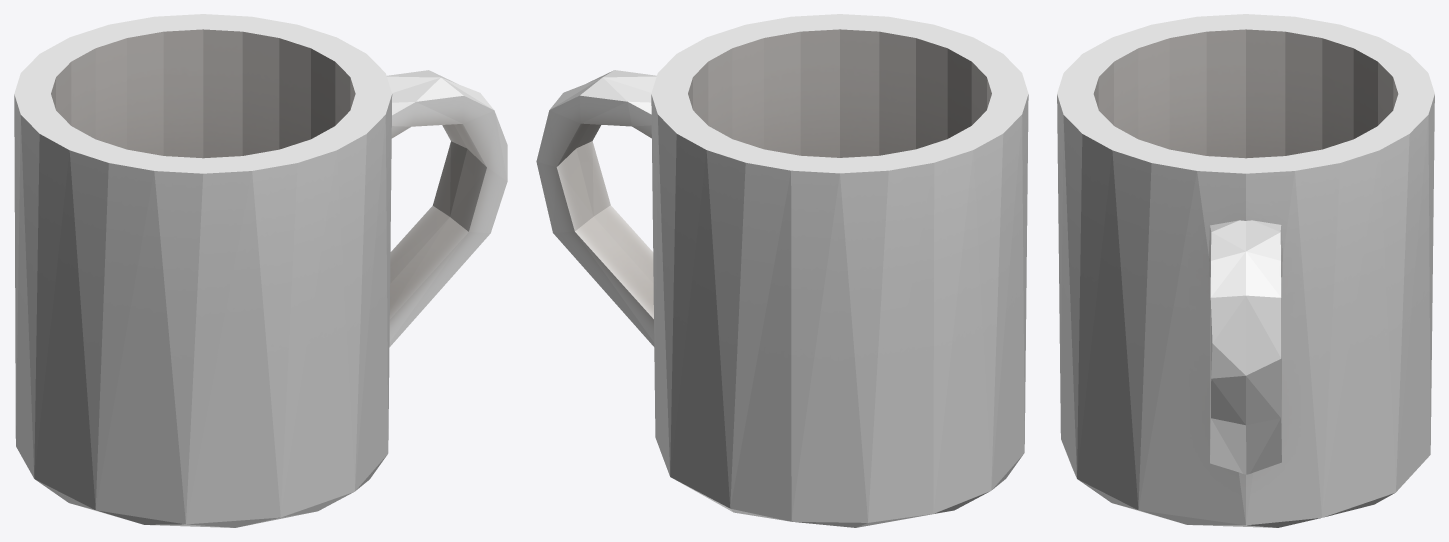
File: KTB0110001.fbx
3 views of the same model, side by side, from view 1: azimuth 30°, elevation 25°; view 2: azimuth 150°, elevation 25°; view 3: azimuth 270°, elevation 25° (orthographic).
Visible parts, largest first — view 1: smKTB0110001; view 2: smKTB0110001; view 3: smKTB0110001.
Boxes of the visible parts, x1=… form: smKTB0110001: x1=14, y1=14, x2=507, y2=527; smKTB0110001: x1=536, y1=14, x2=1028, y2=527; smKTB0110001: x1=1057, y1=14, x2=1434, y2=527.
Bounding box in the file's own units: 9.84 × 7.46 × 7.08.
Materials: 1 (1 with a texture image).
